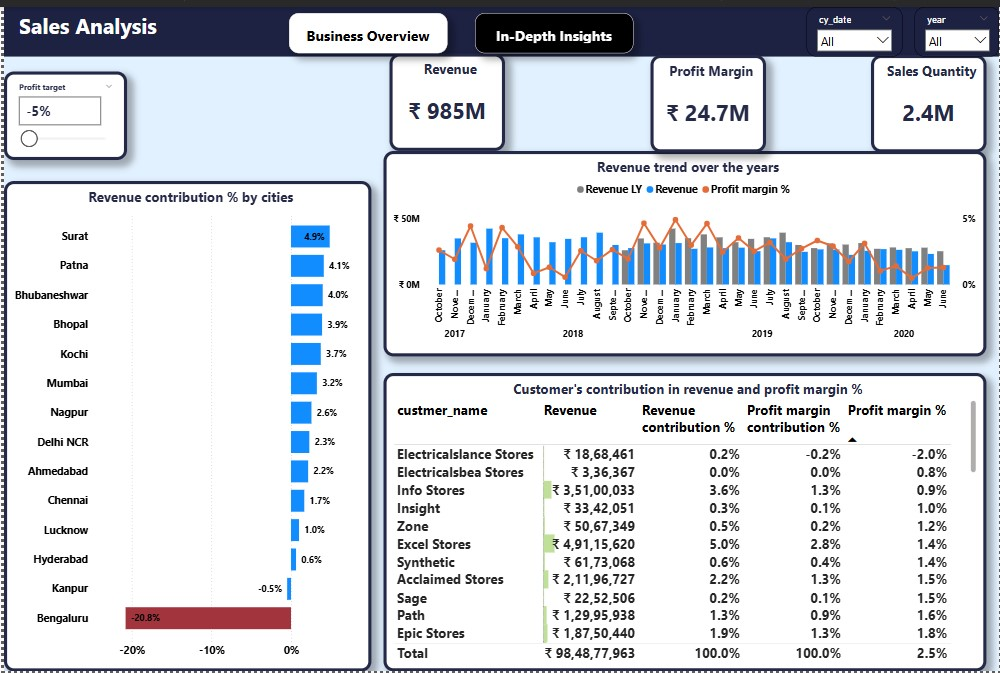

The page's visual inventory and layout, read from the dashboard file:
{"tool":"powerbi","page":{"name":"In-Depth Insights","canvas":[1500,1000],"ordinal":1},"visuals":[{"type":"textbox","box":[0,0,1500,74.5],"z":0},{"type":"card","title":"Revenue","fields":{"Values":["Base Measures.Revenue"]},"box":[0,85.8,173.9,155.9],"z":1000},{"type":"card","title":"Sales Quantity","fields":{"Values":["Base Measures.Sales Qty"]},"box":[388.6,85.8,164.9,155.9],"z":2000},{"type":"slicer","fields":{"Values":["sales date.year"]},"box":[1371.3,0,128.8,74.5],"z":3000},{"type":"slicer","fields":{"Values":["sales date.cy_date"]},"box":[1208.6,0,144.6,74.5],"z":4000},{"type":"tableEx","title":"Customer''s contribution in revenue and profit margin %","fields":{"Values":["sales customers.custmer_name","Base Measures.Revenue","Base Measures.Revenue contribution %","Base Measures.Profit margin contribution %","Base Measures.Profit margin %"]},"box":[571.5,551.2,908.2,449.6],"z":5000},{"type":"lineClusteredColumnComboChart","title":"Revenue trend over the years ","fields":{"Y":["Base Measures.Revenue LY","Base Measures.Revenue"],"Y2":["Base Measures.Profit margin %"],"Category":["sales date.cy_date.Variation.Date Hierarchy.Year","sales date.cy_date.Variation.Date Hierarchy.Month"]},"box":[571.5,216.9,908.2,309.5],"z":6000},{"type":"card","title":"Profit Margin","fields":{"Values":["Base Measures.Total profit margin"]},"box":[194.3,85.8,175,155],"z":7000},{"type":"barChart","title":"Revenue contribution % by cities","fields":{"Category":["sales markets.markets_name","sales markets.zone"],"Y":["Base Measures.Profit margin %"]},"box":[0,262.1,553.5,738.7],"z":8000},{"type":"slicer","fields":{"Values":["Profit target.Profit target"]},"box":[585.9,84.6,184.2,132.9],"z":9000},{"type":"actionButton","box":[428.9,9.1,238.6,60.4],"z":10000},{"type":"actionButton","box":[709.7,9.1,238.6,60.4],"z":11000}]}

Visuals, with their boxes in screenshot pixels (x1, y1, x2, y2), scaled from the page's 1500x1000 canvas onto the 1000x673 screenshot:
textbox: detection(0, 0, 999, 50)
"Revenue" card: detection(0, 58, 116, 163)
"Sales Quantity" card: detection(259, 58, 369, 163)
slicer - sales date.year: detection(914, 0, 999, 50)
slicer - sales date.cy_date: detection(806, 0, 902, 50)
"Customer''s contribution in revenue and profit margin %" tableEx: detection(381, 371, 986, 672)
"Revenue trend over the years " lineClusteredColumnComboChart: detection(381, 146, 986, 354)
"Profit Margin" card: detection(130, 58, 246, 162)
"Revenue contribution % by cities" barChart: detection(0, 176, 369, 672)
slicer - Profit target.Profit target: detection(391, 57, 513, 146)
actionButton: detection(286, 6, 445, 47)
actionButton: detection(473, 6, 632, 47)
